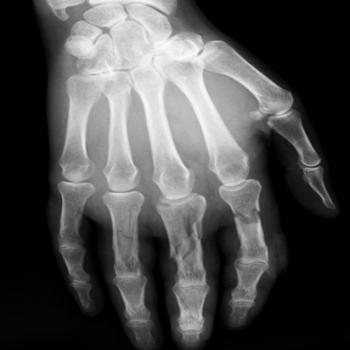Fracture: (100, 200, 152, 265), (158, 203, 206, 266), (223, 202, 269, 232)
